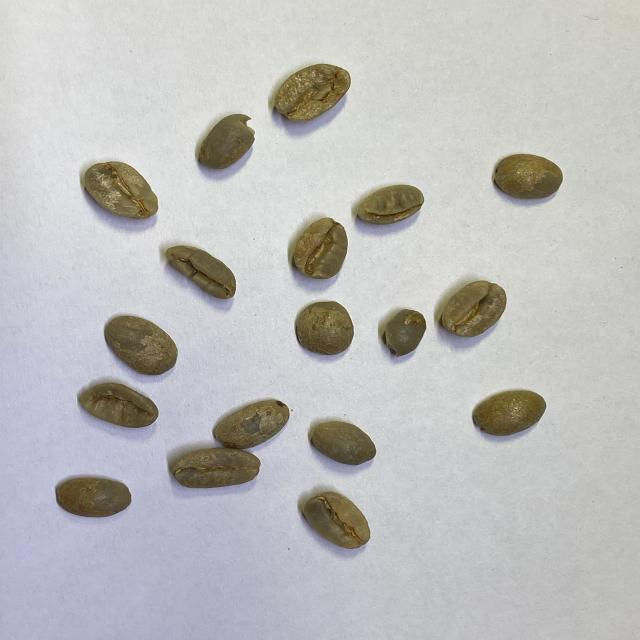bad: (273, 63, 352, 125), (85, 161, 160, 221), (165, 244, 238, 300), (78, 383, 158, 430), (196, 114, 257, 169), (383, 308, 427, 358)
good: (105, 314, 178, 376), (213, 398, 290, 452), (439, 278, 506, 338), (304, 492, 373, 549), (471, 388, 548, 438), (290, 217, 349, 280), (169, 449, 261, 488), (492, 153, 563, 200), (53, 476, 132, 517), (294, 300, 354, 353), (312, 422, 378, 467), (355, 183, 424, 226)
